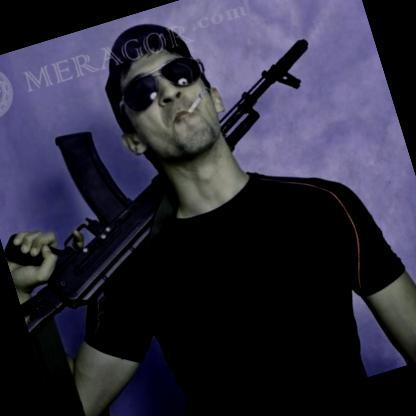rifle: (0, 12, 374, 355)
